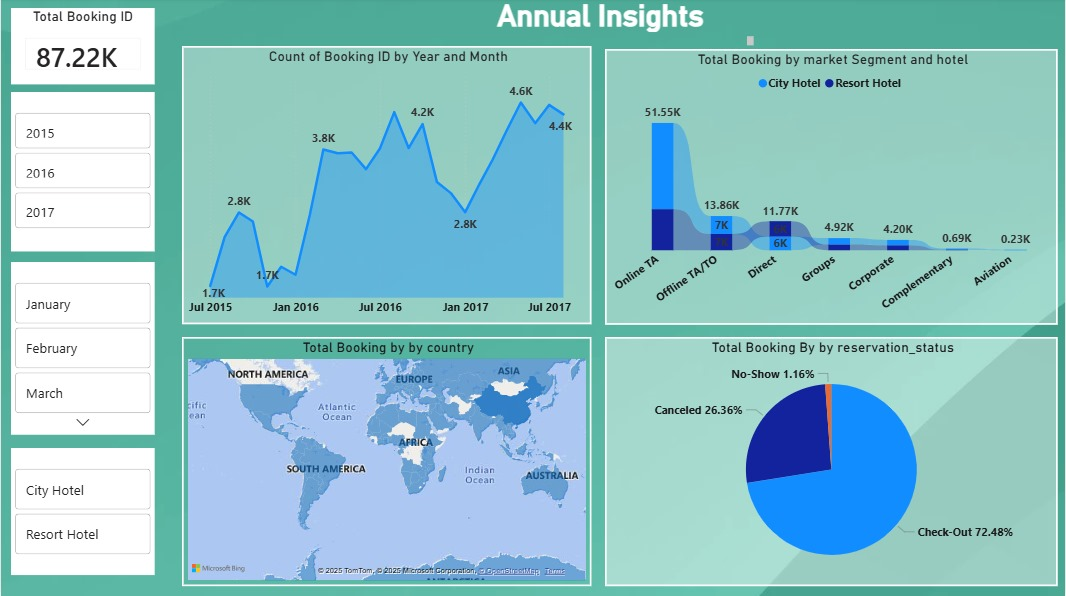

What the dashboard file says about the page in this screenshot:
{"tool":"powerbi","page":{"name":"Page 1","canvas":[1280,720],"ordinal":0},"visuals":[{"type":"lineChart","fields":{"Y":["CountNonNull(Sheet1.Booking ID)"],"Category":["Sheet1.Arrival Date.Variation.Date Hierarchy.Year","Sheet1.Arrival Date.Variation.Date Hierarchy.Month"]},"box":[218.3,58.3,493.3,335],"z":0},{"type":"ribbonChart","fields":{"Y":["CountNonNull(Sheet1.Booking ID)"],"Category":["Sheet1.market_segment"],"Series":["Sheet1.hotel"]},"box":[726.7,61.7,545,331.7],"z":1000},{"type":"filledMap","fields":{"Category":["Sheet1.country"],"Y":["Count(Sheet1.Booking ID)"]},"box":[218.3,408.3,493.3,300],"z":2000},{"type":"pieChart","fields":{"Y":["Count(Sheet1.Booking ID)"],"Category":["Sheet1.reservation_status"]},"box":[726.7,408.3,545,300],"z":3000},{"type":"cardVisual","title":"Total Booking ID","fields":{"Data":["CountNonNull(Sheet1.Booking ID)"]},"box":[11.7,11.7,173.3,91.7],"z":4000},{"type":"advancedSlicerVisual","fields":{"Values":["Sheet1.Arrival Date.Variation.Date Hierarchy.Year"]},"box":[11.7,113.3,173.3,191.7],"z":5000},{"type":"advancedSlicerVisual","fields":{"Values":["Sheet1.Arrival Date.Variation.Date Hierarchy.Month"]},"box":[11.7,318.3,173.3,208.3],"z":6000},{"type":"advancedSlicerVisual","fields":{"Values":["Sheet1.hotel"]},"box":[11.7,541.7,173.3,153.3],"z":7000},{"type":"textbox","title":"Annual Insights","box":[532.4,0,379.4,61.8],"z":8000}]}

Visuals, with their boxes in screenshot pixels (x1, y1, x2, y2), scaled from the page's 1280x720 canvas onto the 1066x596 screenshot:
lineChart - CountNonNull(Sheet1.Booking ID) x Sheet1.Arrival Date.Variation.Date Hierarchy.Year: <box>182,48,593,326</box>
ribbonChart - CountNonNull(Sheet1.Booking ID) x Sheet1.market_segment: <box>605,51,1059,326</box>
filledMap - Sheet1.country x Count(Sheet1.Booking ID): <box>182,338,593,586</box>
pieChart - Count(Sheet1.Booking ID) x Sheet1.reservation_status: <box>605,338,1059,586</box>
"Total Booking ID" cardVisual: <box>10,10,154,86</box>
advancedSlicerVisual - Sheet1.Arrival Date.Variation.Date Hierarchy.Year: <box>10,94,154,252</box>
advancedSlicerVisual - Sheet1.Arrival Date.Variation.Date Hierarchy.Month: <box>10,263,154,436</box>
advancedSlicerVisual - Sheet1.hotel: <box>10,448,154,575</box>
"Annual Insights" textbox: <box>443,0,759,51</box>
